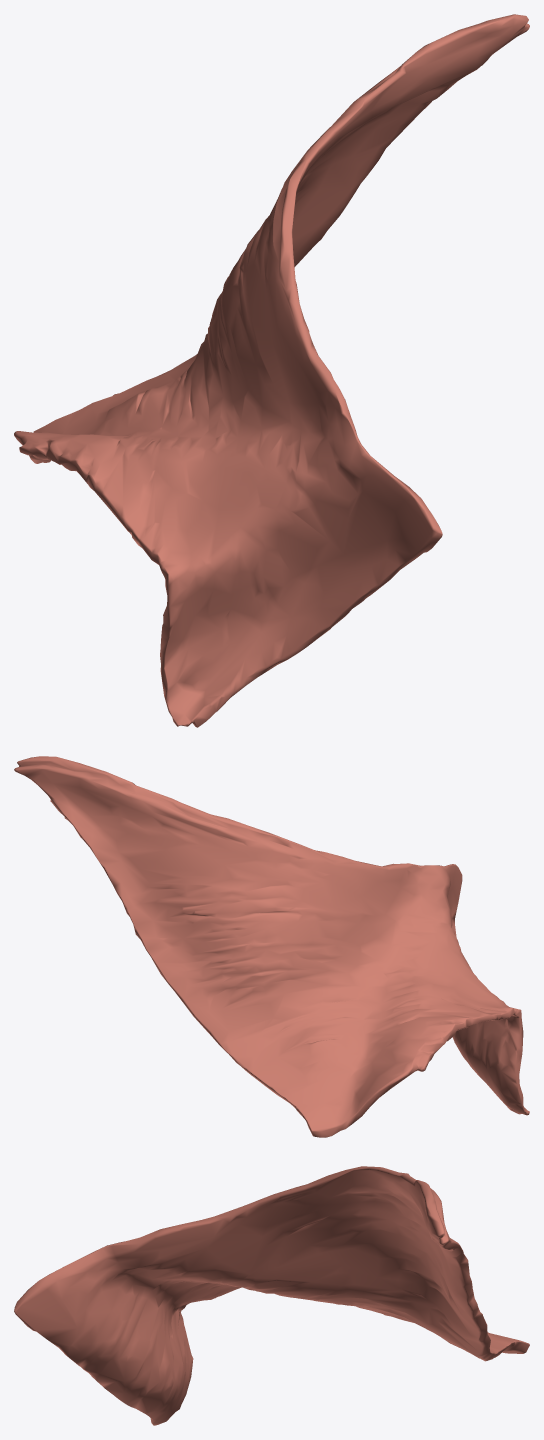
3 views of the same model, one above another, from view 1: azimuth 30°, elevation 25°; view 2: azimuth 150°, elevation 25°; view 3: azimuth 270°, elevation 25° (orthographic). The views are drawn at different scales.
Visible parts, largest first — view 1: 左侧颈阔肌; view 2: 左侧颈阔肌; view 3: 左侧颈阔肌.
Part boxes in pixels (x1,y1,x2,y2): 左侧颈阔肌: [14, 14, 529, 727]; 左侧颈阔肌: [14, 756, 529, 1137]; 左侧颈阔肌: [14, 1166, 529, 1425].
Size of the model in its own units: 0.212 by 0.1834 by 0.2094.
